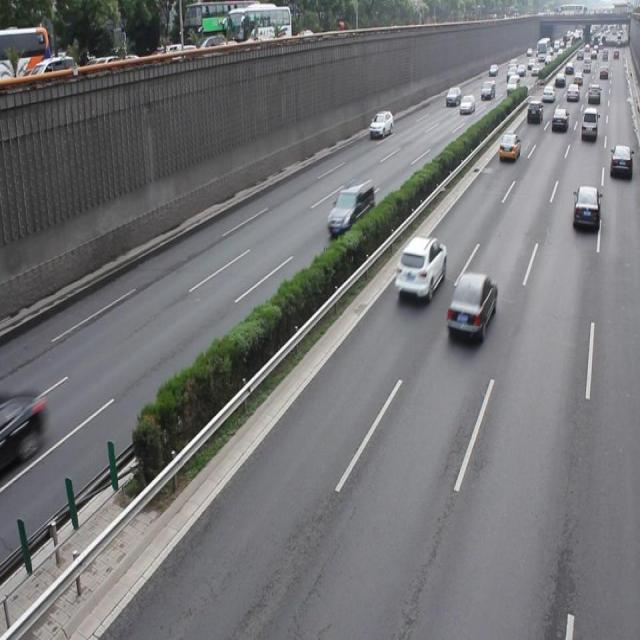car: (444, 269, 497, 344), (394, 233, 446, 303), (570, 186, 598, 232), (609, 143, 632, 179)
truck: (326, 179, 374, 235)
